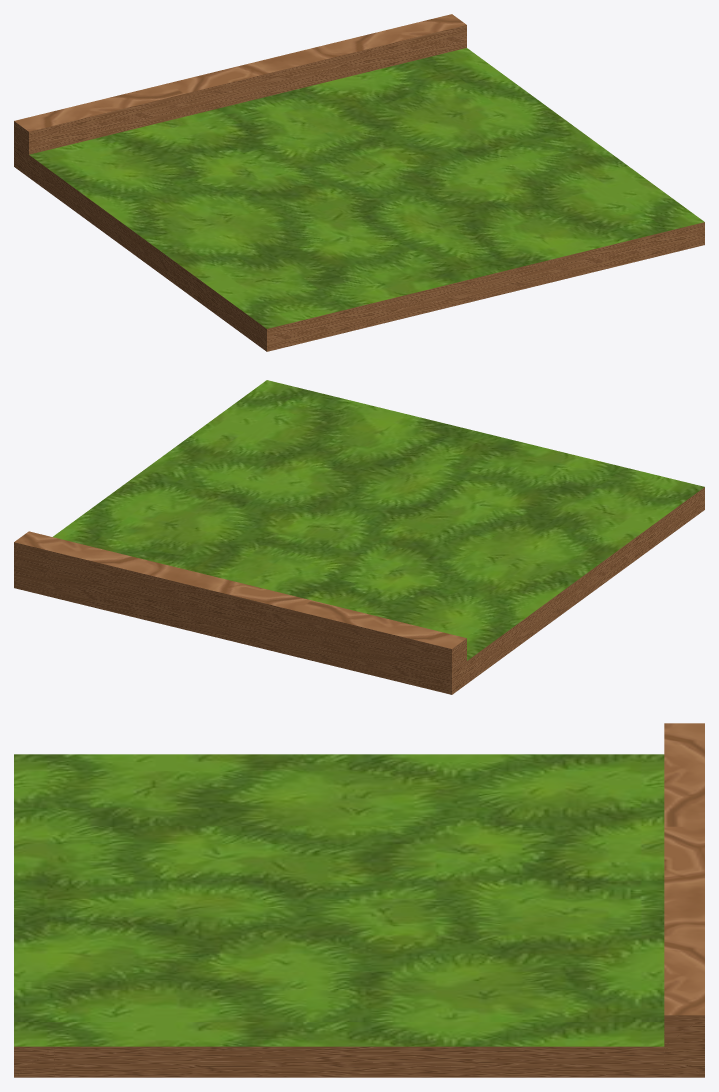
The model's file is Surface_1Side.fbx.
3 renders of one model, top to bottom at view 1: azimuth 30°, elevation 25°; view 2: azimuth 150°, elevation 25°; view 3: azimuth 270°, elevation 25°, orthographic. The views are drawn at different scales.
Visible parts, largest first — view 1: Surface_1Side; view 2: Surface_1Side; view 3: Surface_1Side.
Boxes of the visible parts, x1,y1,x2,y2 form: Surface_1Side: [14, 14, 704, 351]; Surface_1Side: [14, 380, 704, 694]; Surface_1Side: [14, 723, 704, 1077].
Size of the model in its own units: 8 by 0.8 by 8.
